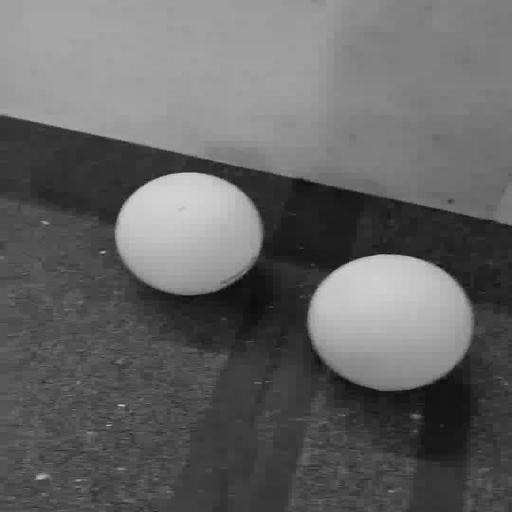fuel: (307, 255, 474, 391), (115, 173, 263, 295)
